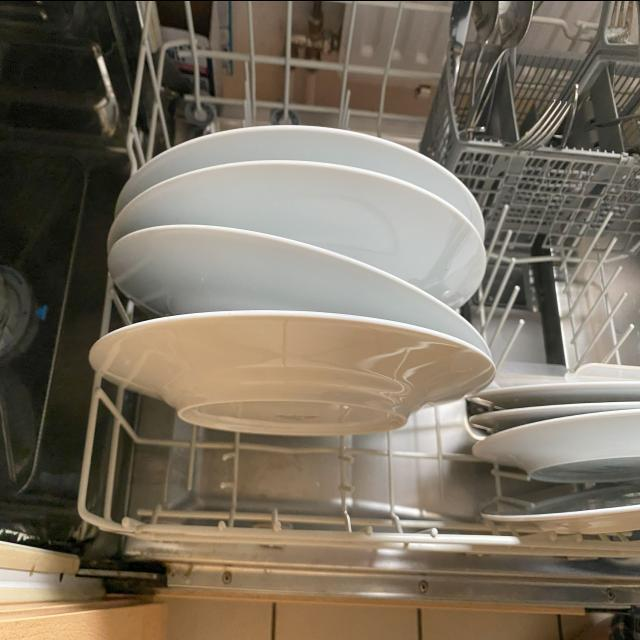clutery_bin: (457, 28, 640, 152)
empty_slot: (138, 422, 442, 527), (176, 21, 414, 127), (501, 193, 639, 368)
